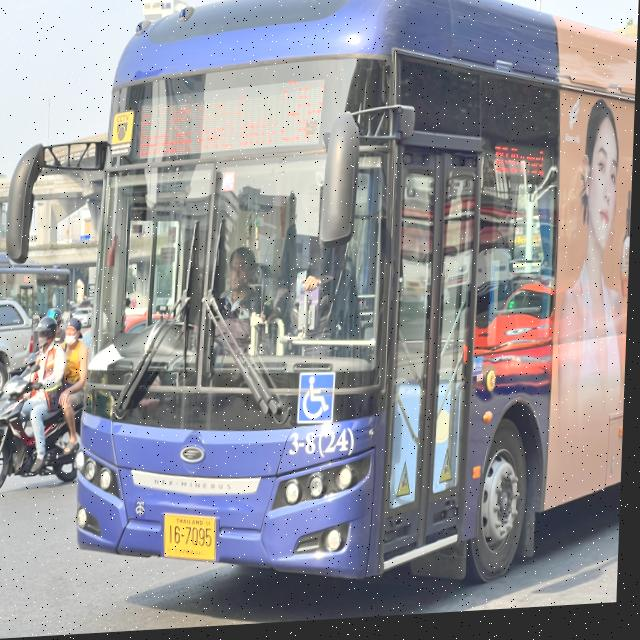Bus Line Number: (275, 73, 337, 149)
Bus Side Number: (288, 431, 357, 468)
Destination Sign: (134, 81, 273, 170)
TSB-Bus: (14, 0, 638, 590)
